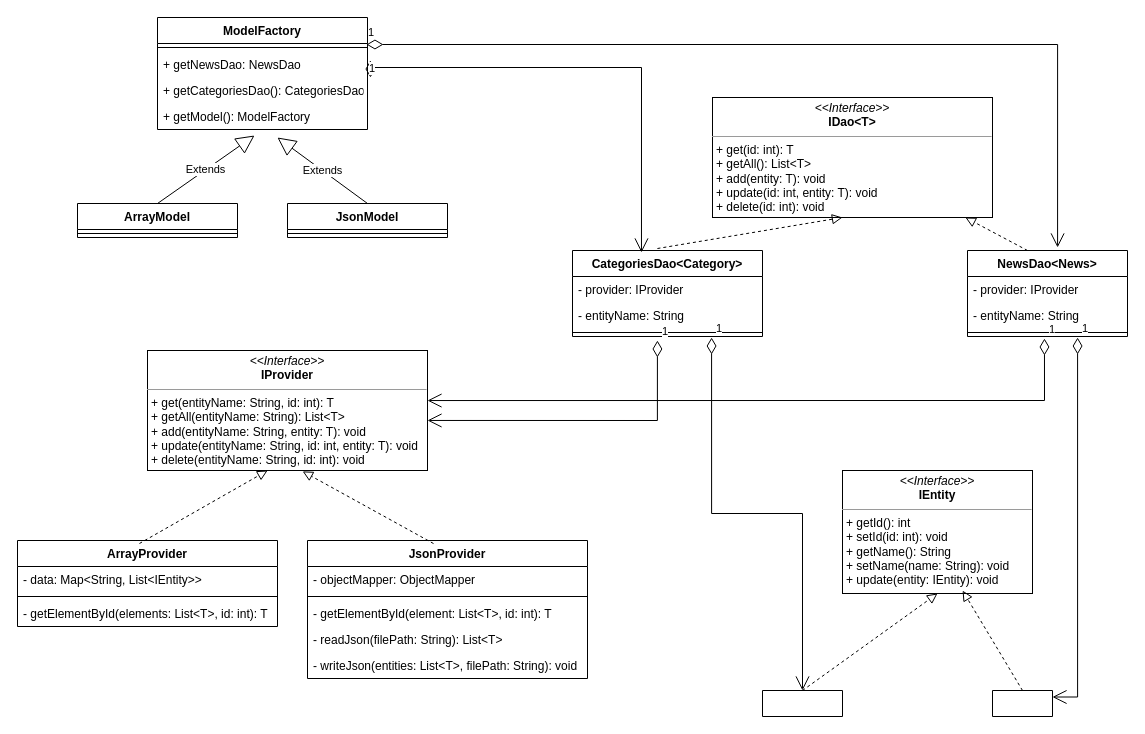
Image size: 1145x734. Some labels were removed from this diagram. The shapes that lost their labels are listed below. From the top down, each one's centre as x and y in pixels, then its label:
At (x=802, y=703): "Category".
At (x=1022, y=703): "News".
